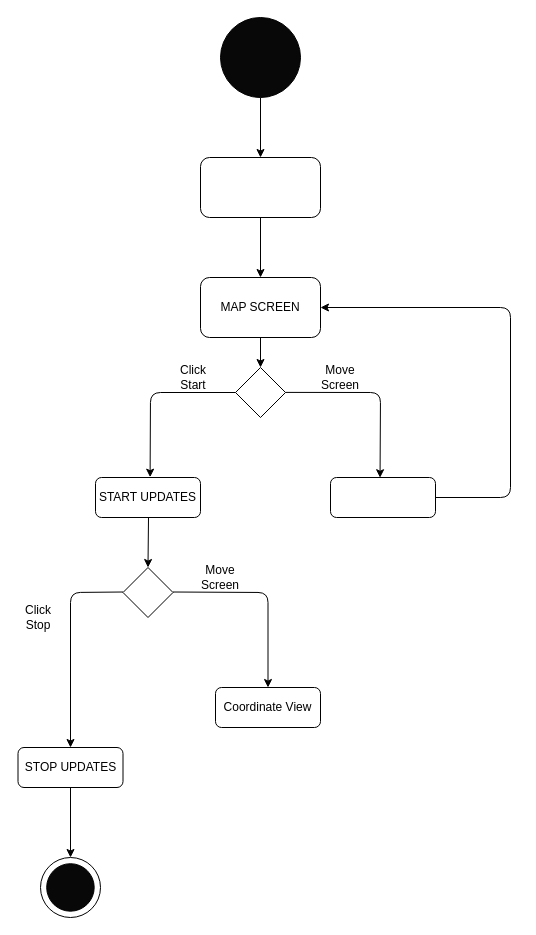
Some shapes in this 536 by 935 pixel diagram are drawn without their labels. Here are the shapes that lost their labels. From the top down, the centre of each, then its label:
At (260,187): "LAUNCH APPLICATION".
At (383,497): "Change Settings".
